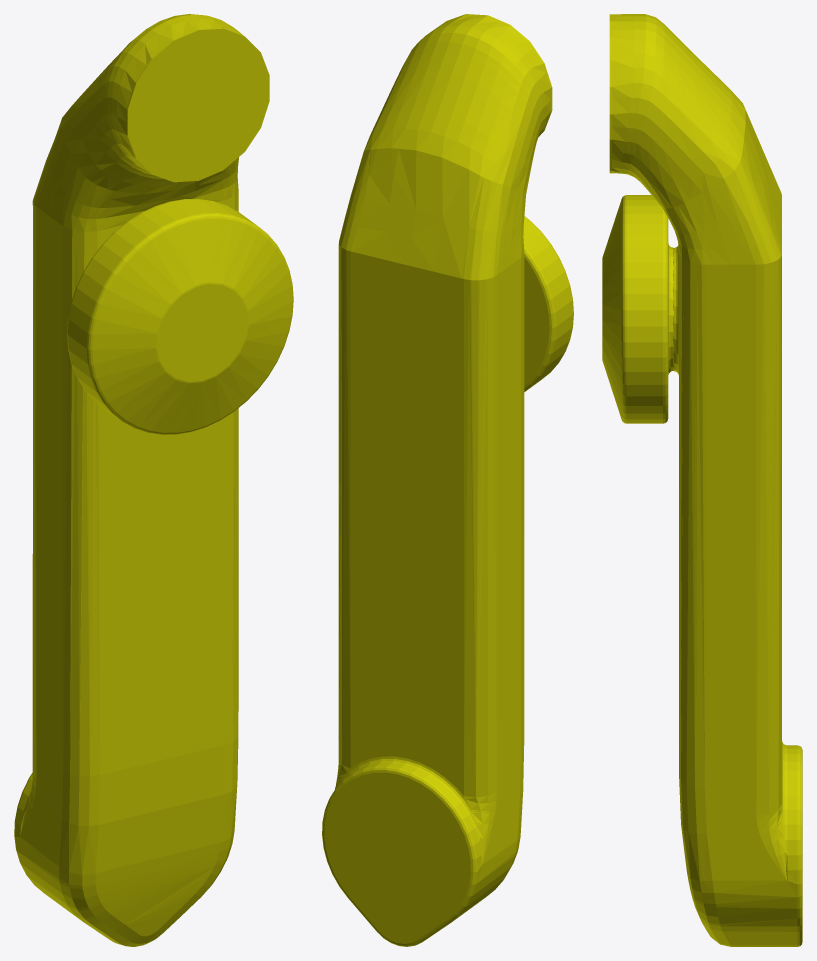
Rendered from solo12_upper_leg_left_side.obj.
3 renders of one model, left to right at view 1: azimuth 30°, elevation 25°; view 2: azimuth 150°, elevation 25°; view 3: azimuth 270°, elevation 25°, orthographic. The views are drawn at different scales.
Parts seen in each view (by area): view 1: solo12_upper_leg_left_side; view 2: solo12_upper_leg_left_side; view 3: solo12_upper_leg_left_side.
Boxes of the visible parts, x1,y1,x2,y2 form: solo12_upper_leg_left_side: (14, 14, 293, 946); solo12_upper_leg_left_side: (322, 14, 573, 946); solo12_upper_leg_left_side: (602, 14, 802, 946).
Bounding box in the file's own units: 0.0444 × 0.1975 × 0.0389.
